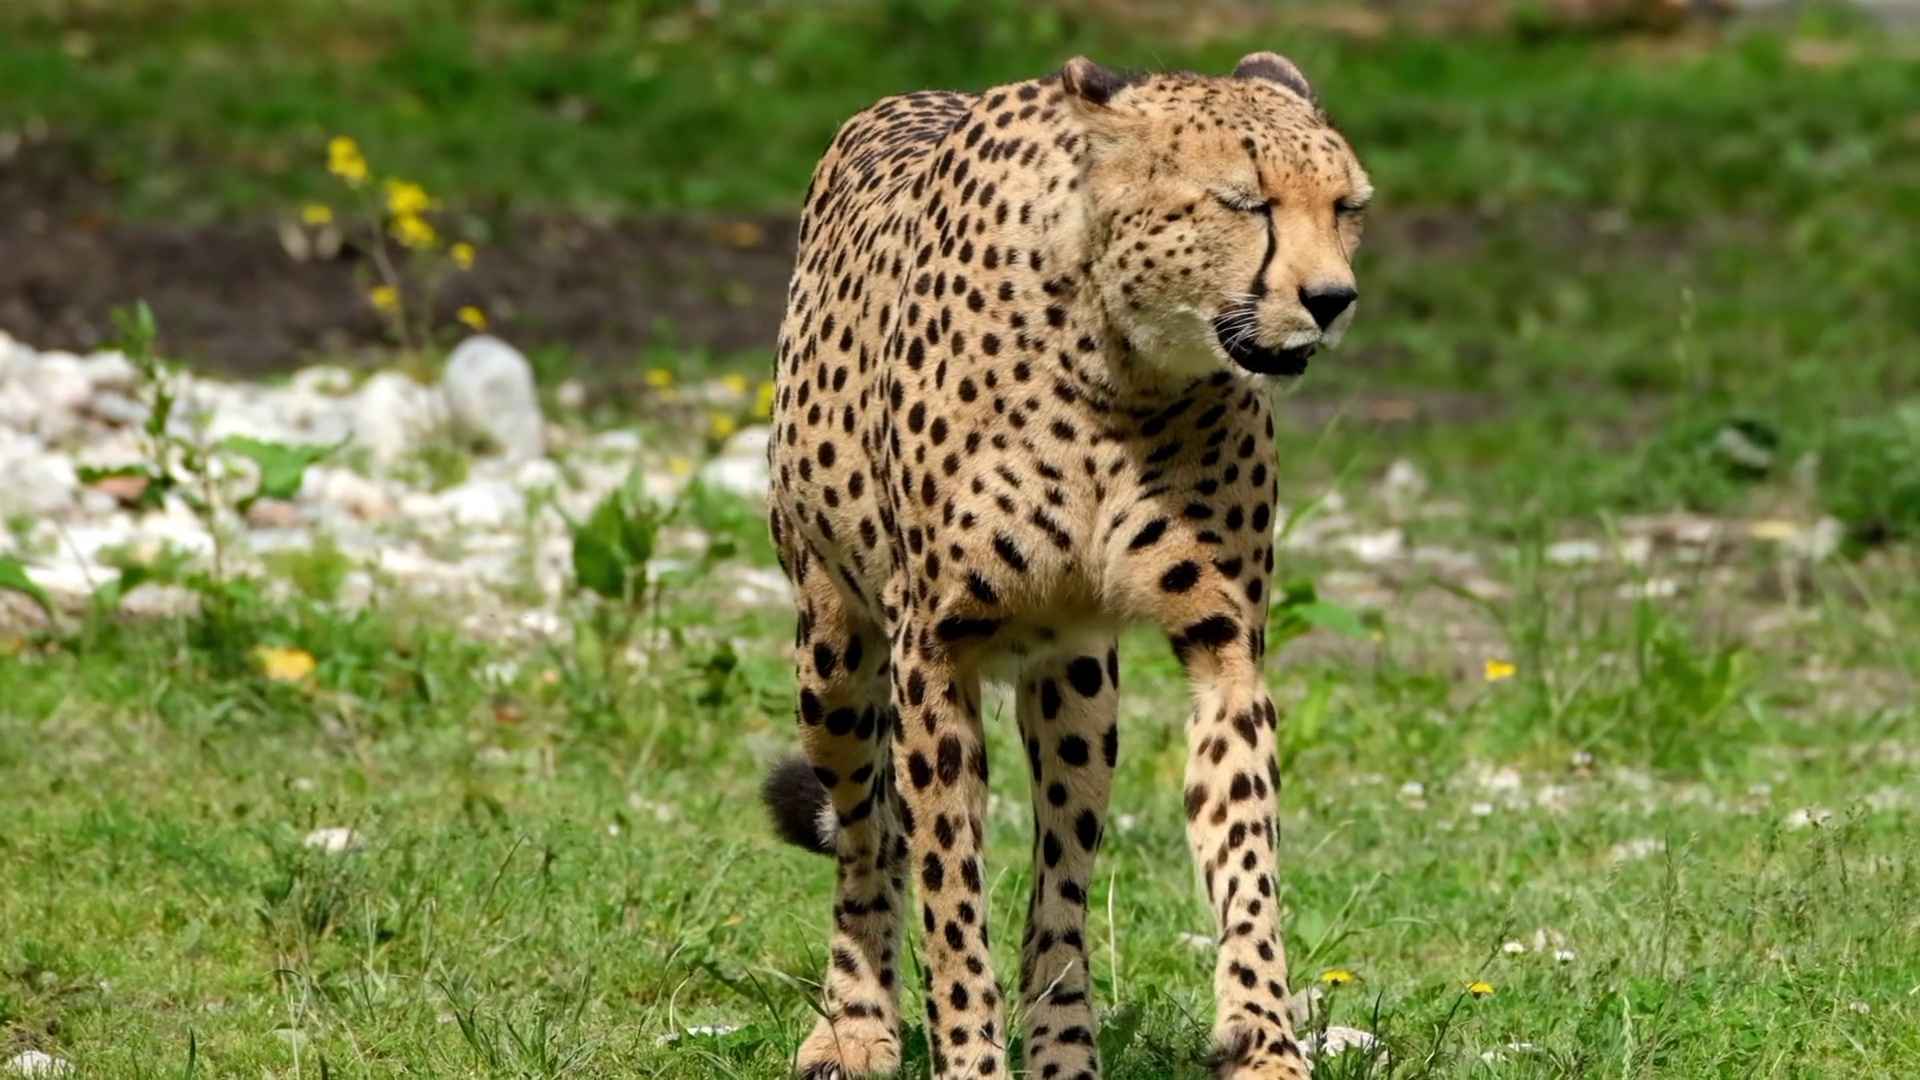Cheetah: (757, 45, 1377, 1080)
